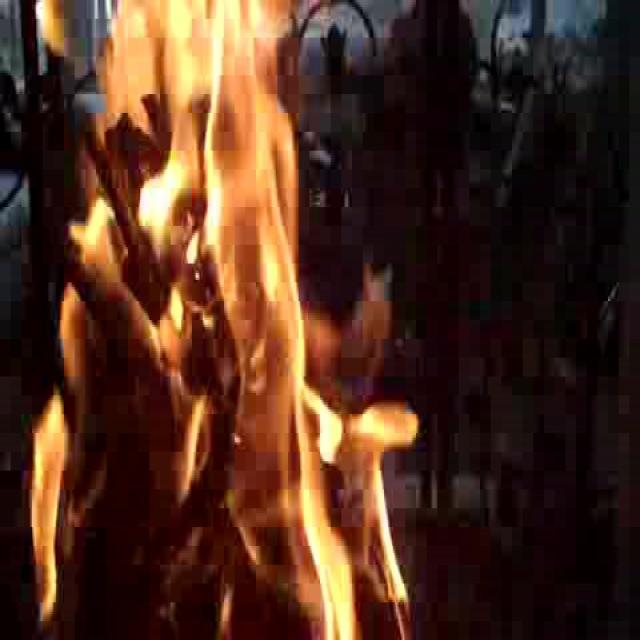fire: (80, 12, 362, 628)
